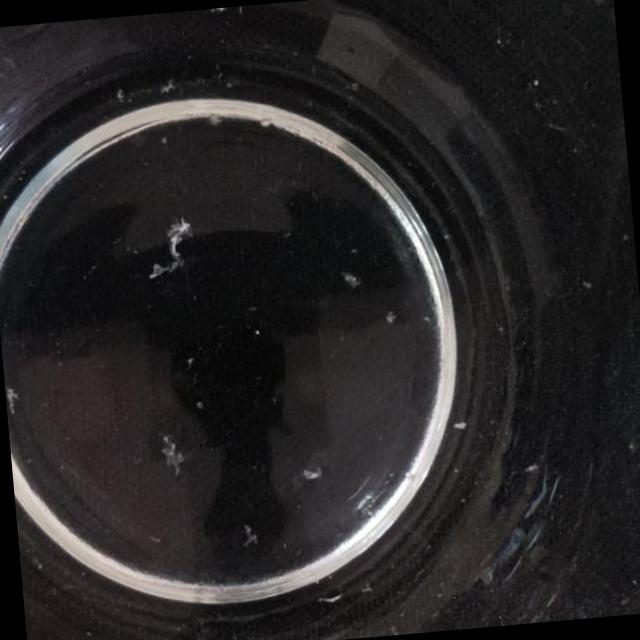fiber: (138, 210, 199, 296), (156, 426, 193, 482), (289, 453, 332, 488), (338, 251, 368, 294), (4, 374, 22, 424), (202, 6, 235, 27)
